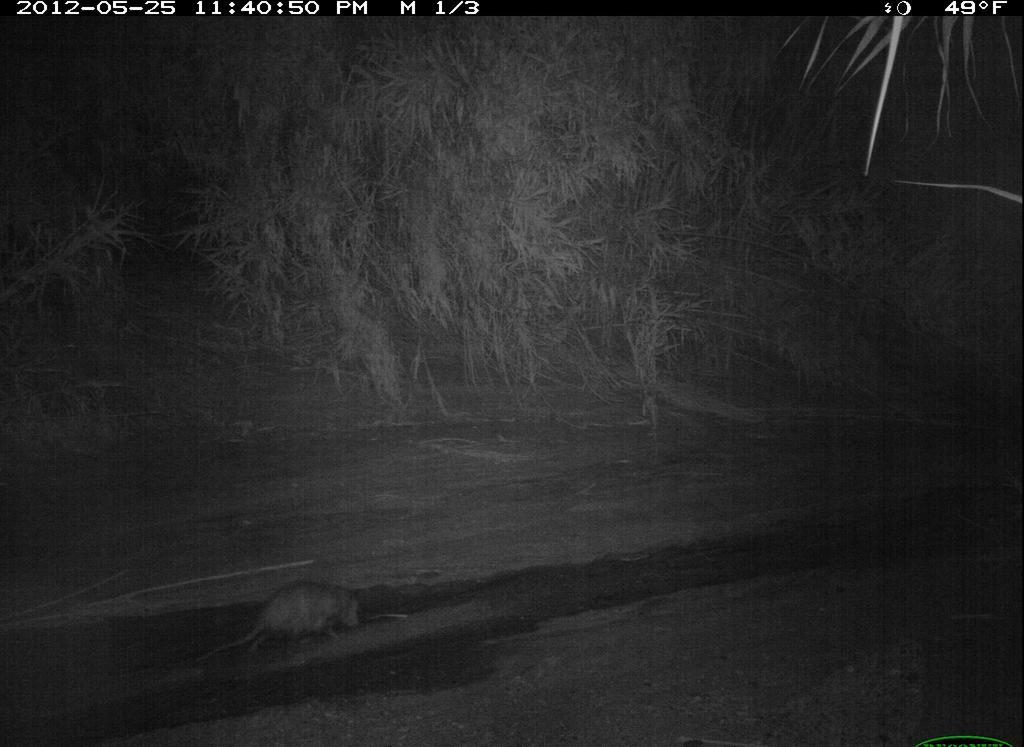opossum: (167, 570, 390, 678)
